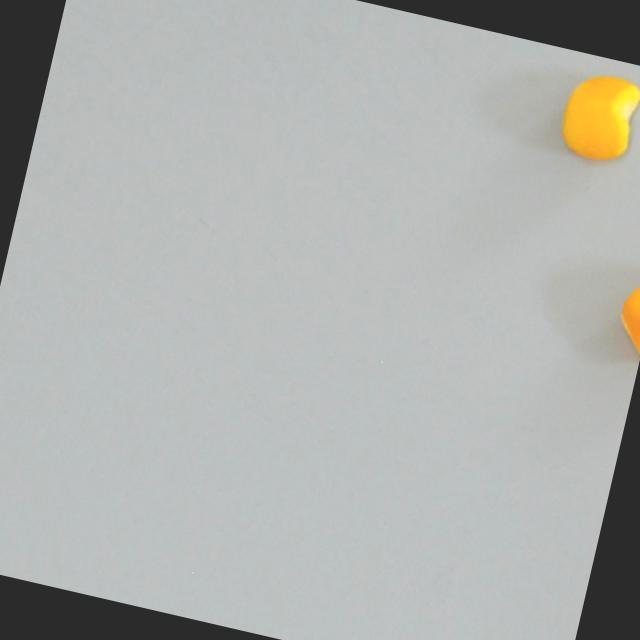dañado: (597, 246, 640, 377)
no_canjicado: (548, 55, 640, 175)
